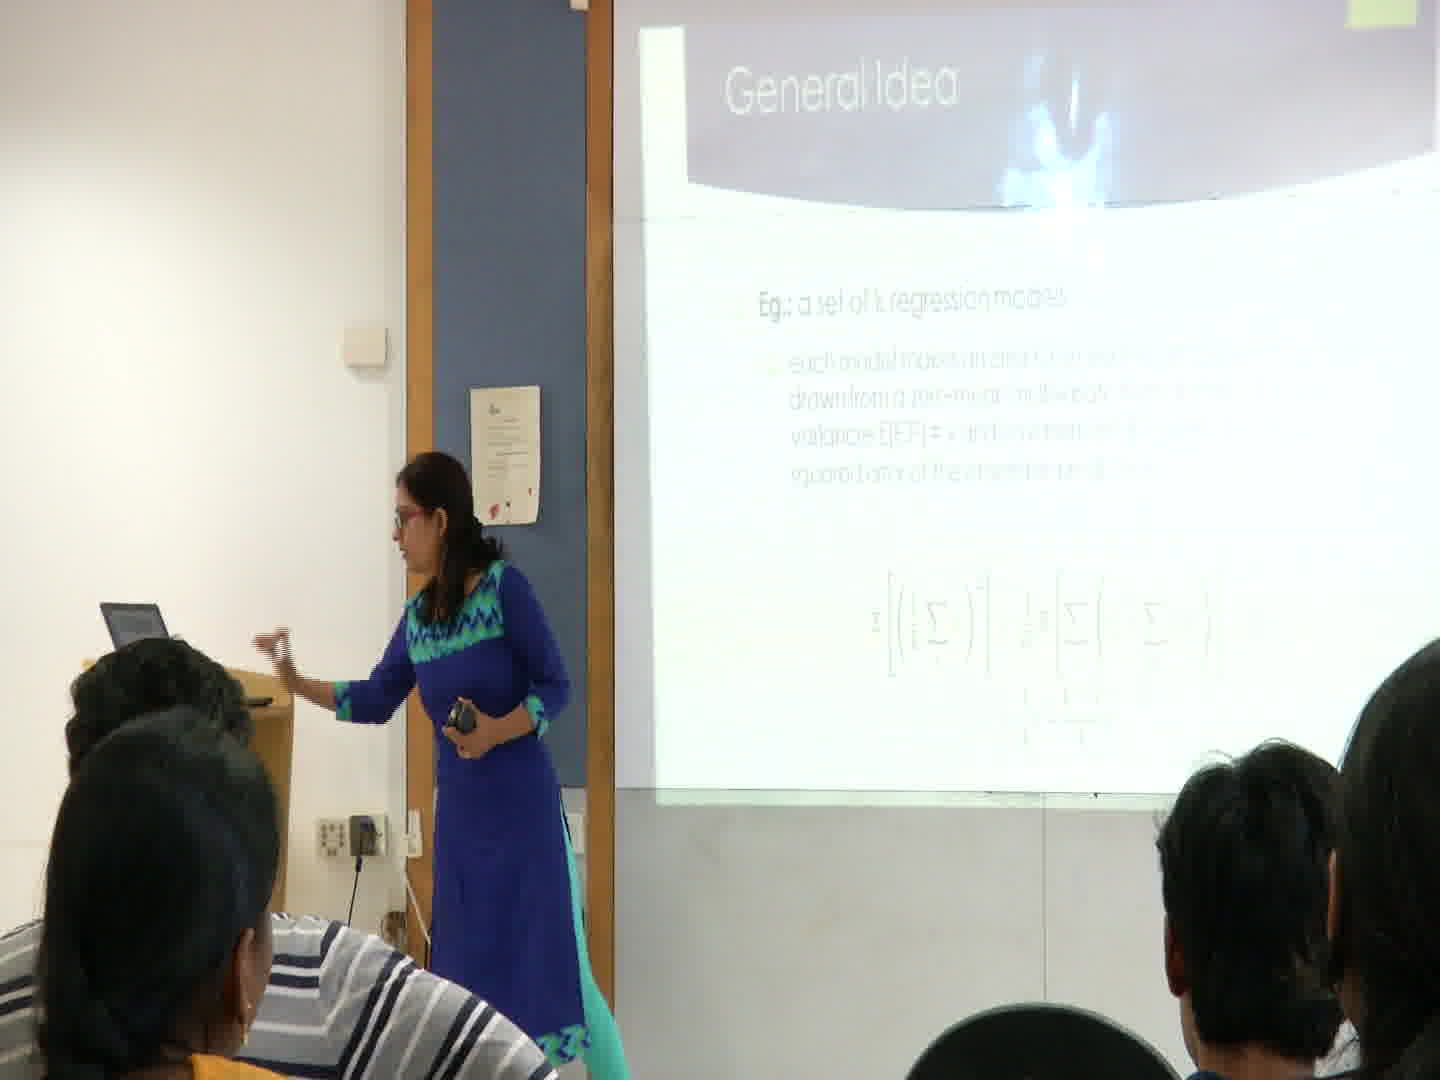eq: (862, 557, 1221, 754)
